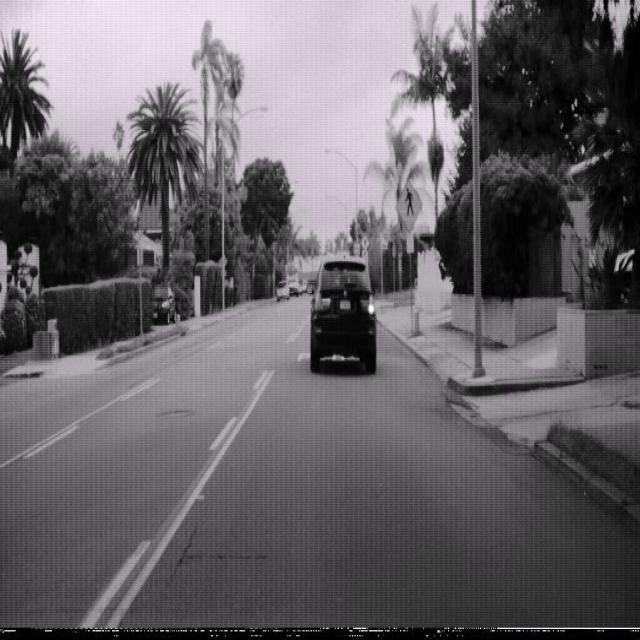pedestrianCrossing: (394, 176, 422, 232)
